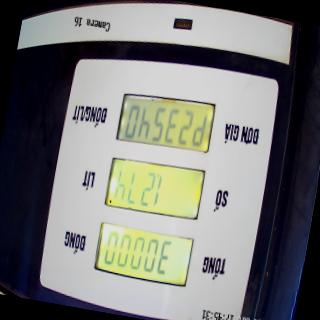screen: (90, 83, 219, 295)
